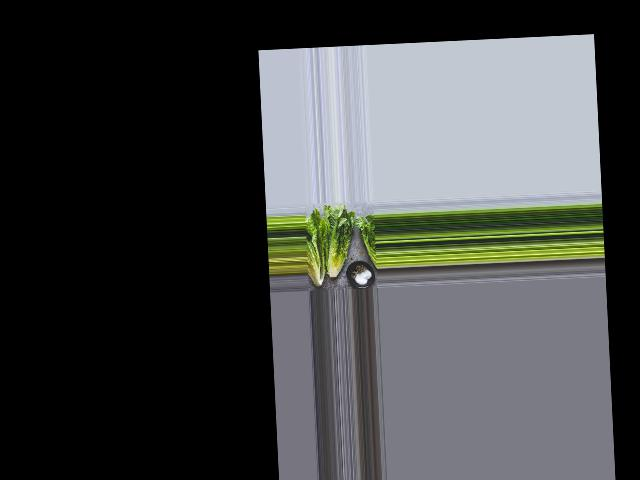lettuce: (305, 214, 328, 291)
